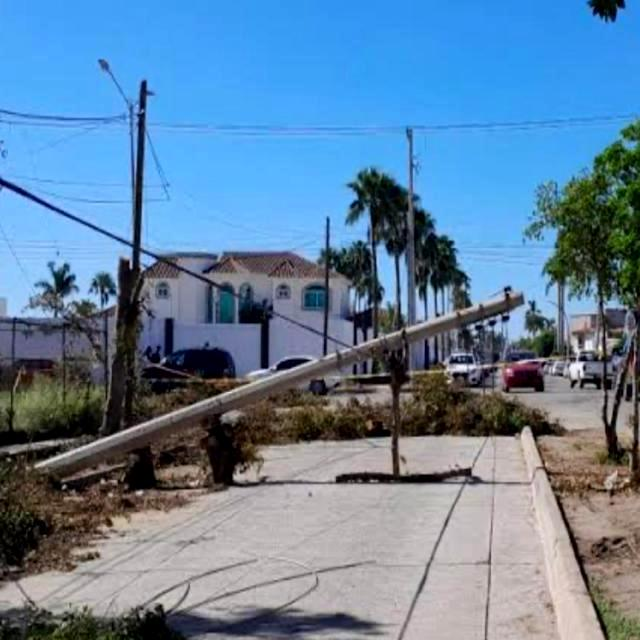Broken Pole: (30, 282, 530, 485)
